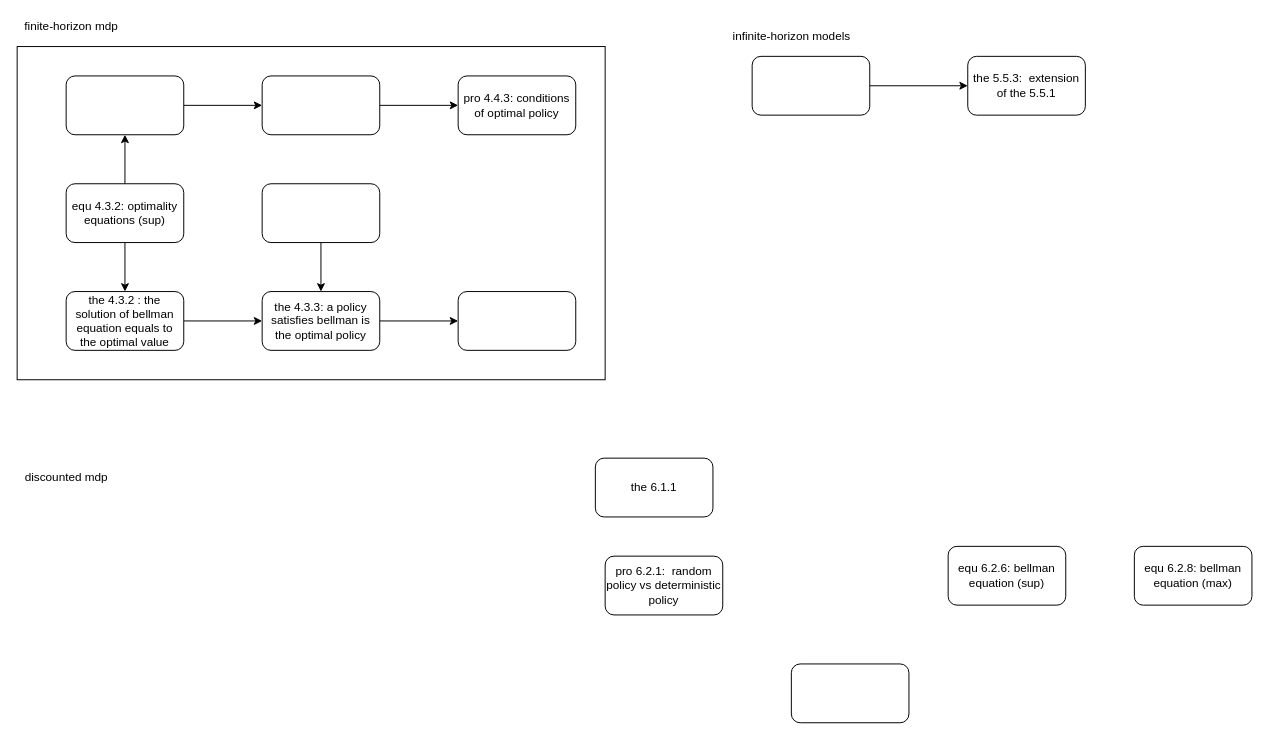
Image size: 1269x740. Some labels were removed from this diagram. The centre of each missing label's shape, as x and y in pixels:
equ 4.3.5: optimality equations (max): point 320,213
the 4.3.4: epsilon optimal policy: point 516,320
the 4.4.1: existence of deterministic history-dependent optimal policy: point 124,105
the 4.4.2: existence of deterministic markovian optimal policy: point 320,105
the 5.5.1: given a historical policy, there exists an equivalent markov policy: point 810,85
